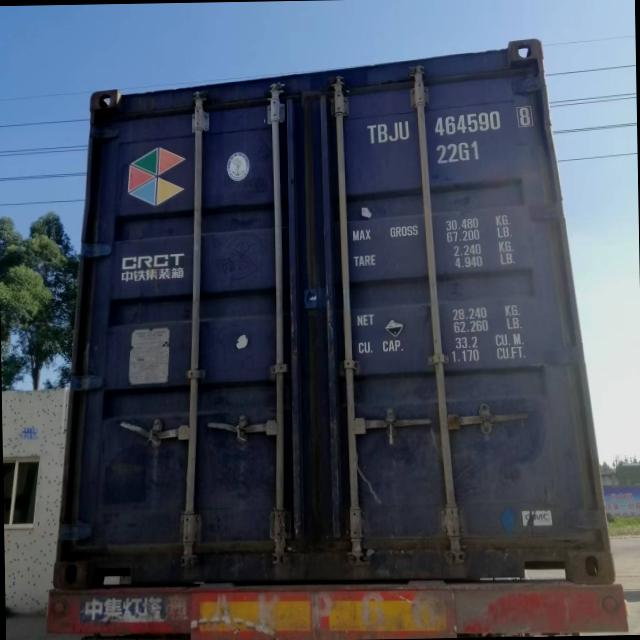seal: (380, 408, 402, 447)
